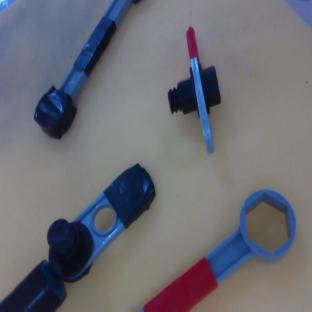part_1_bad: (28, 149, 166, 290), (93, 193, 95, 196)
part_1_good: (161, 25, 229, 154)
part_2_bad: (0, 259, 75, 312)
